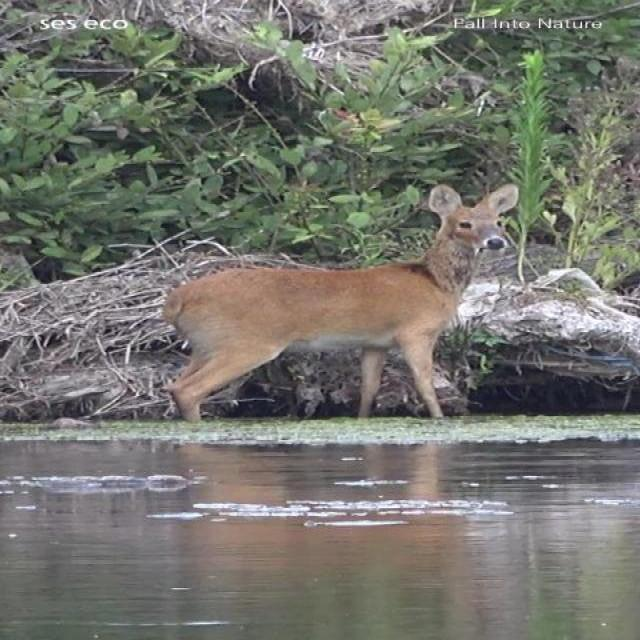deer: (158, 182, 524, 421)
